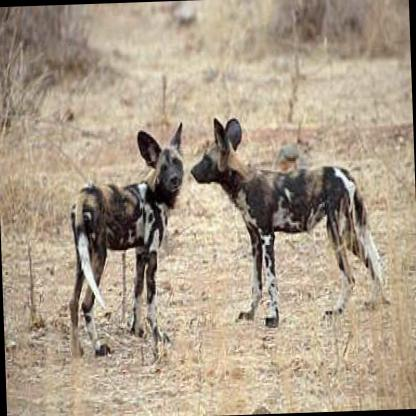African_hunting_dog: (186, 110, 387, 332), (60, 121, 192, 359)
